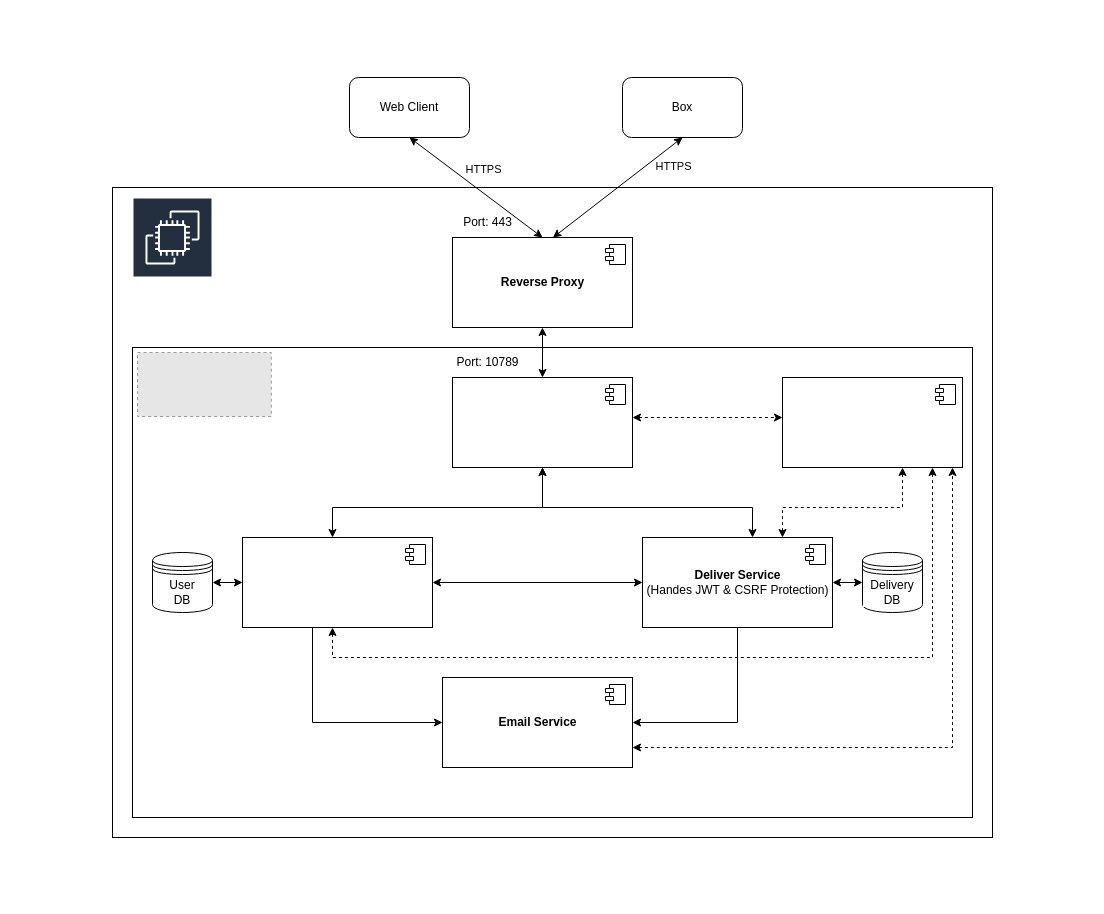
The diagram is 1104 pixels wide and 914 high, and some of its shapes have lost their labels. Grey dashed boxes stand in for pictures. Each missing label, with the centre of its shape:
Amazon EC2: (172,247)
Auth Service (Handes JWT & CSRF Protection): (337,582)
Discovery Service: (872,422)
Gateway Service (Handles CORS Protection): (542,422)
